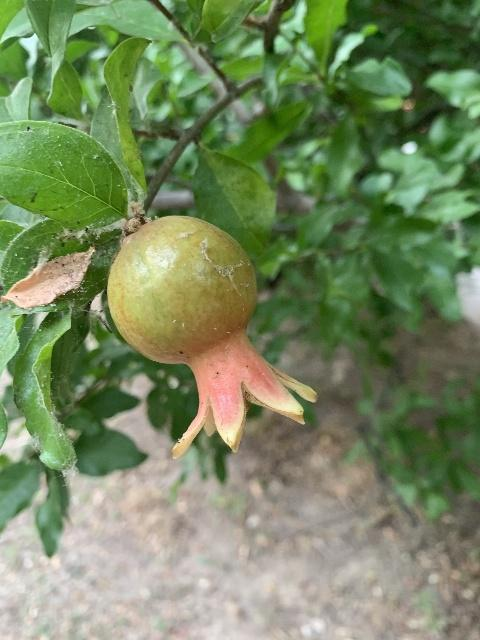mid-growth: (106, 216, 316, 459)
